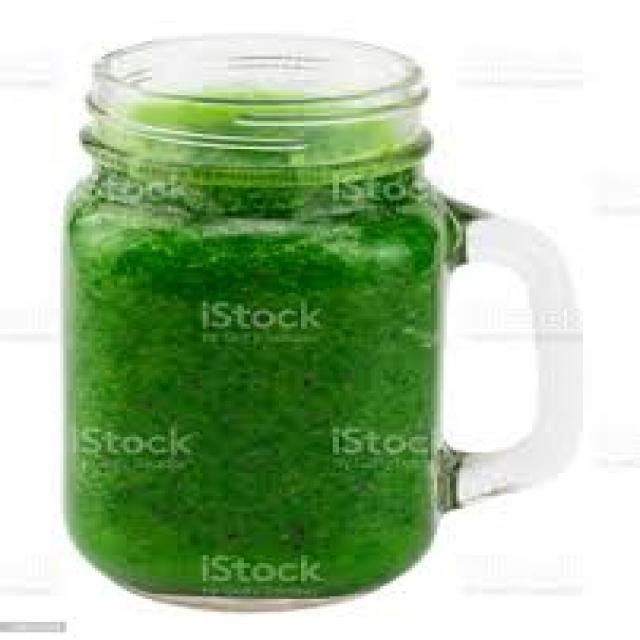Glass-Non-Biodegradable but Recyclable-: (59, 69, 584, 610)
